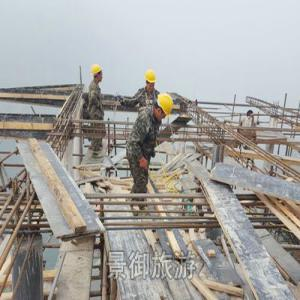yellow: (156, 93, 175, 122), (145, 70, 158, 94), (91, 64, 104, 84)
